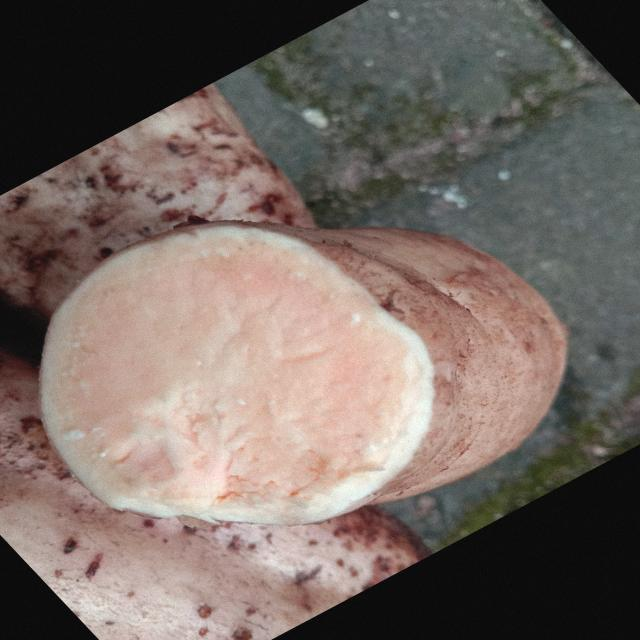Healthy Sweet Potato: (42, 224, 433, 525)
